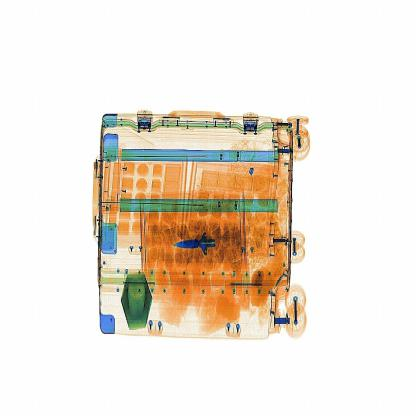gun: (168, 221, 228, 268)
